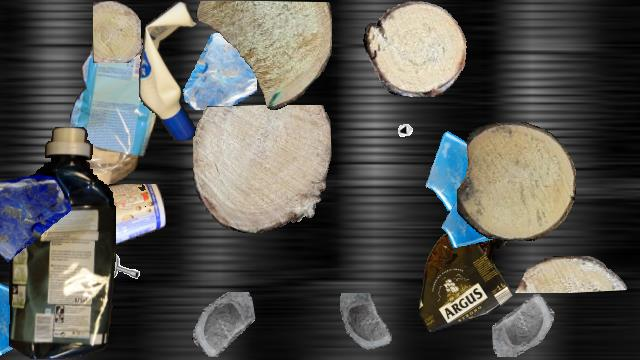glass: (423, 124, 515, 216), (0, 172, 71, 266), (180, 33, 256, 109), (0, 269, 59, 359), (335, 293, 401, 359), (191, 292, 255, 356), (441, 190, 505, 254), (492, 294, 554, 356)
metal: (98, 252, 146, 300), (395, 107, 433, 145)
plastic: (8, 127, 116, 359), (70, 35, 156, 209), (419, 224, 513, 332), (139, 1, 203, 139), (66, 184, 166, 254)
wood: (193, 105, 331, 233), (196, 1, 332, 109), (457, 122, 575, 240), (363, 1, 467, 97), (513, 256, 627, 292), (93, 1, 141, 63)
